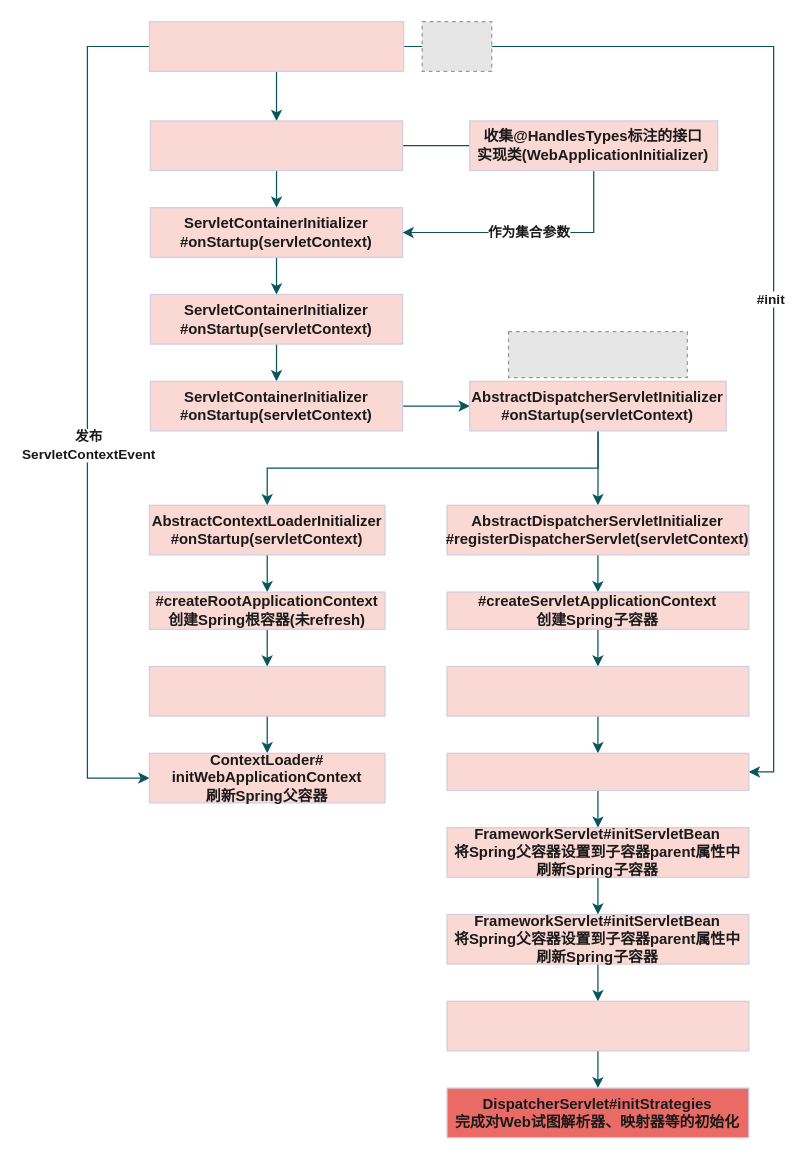
This 806x1159 diagram has some shape labels left out. Grey dashed boxes stand in for pictures. The centre of each missing label's shape, as x and y in pixels:
"#createDispatcherServlet 创建dispatcherServlet实例并添加到 servletContext" belongs at point 597,690.
"AbstractApplicationContext#finishRefresh Spring子容器刷新完成发布事件 ContextRefreshedEvent" belongs at point 597,1025.
"HttpServletBean#init" belongs at point 597,771.
"Sevelet容器 (Tomcat)启动" belongs at point 276,45.
"StandardContext #startInternal" belongs at point 276,145.
"创建ContextLoaderListener 添加至servletContext" belongs at point 266,690.
